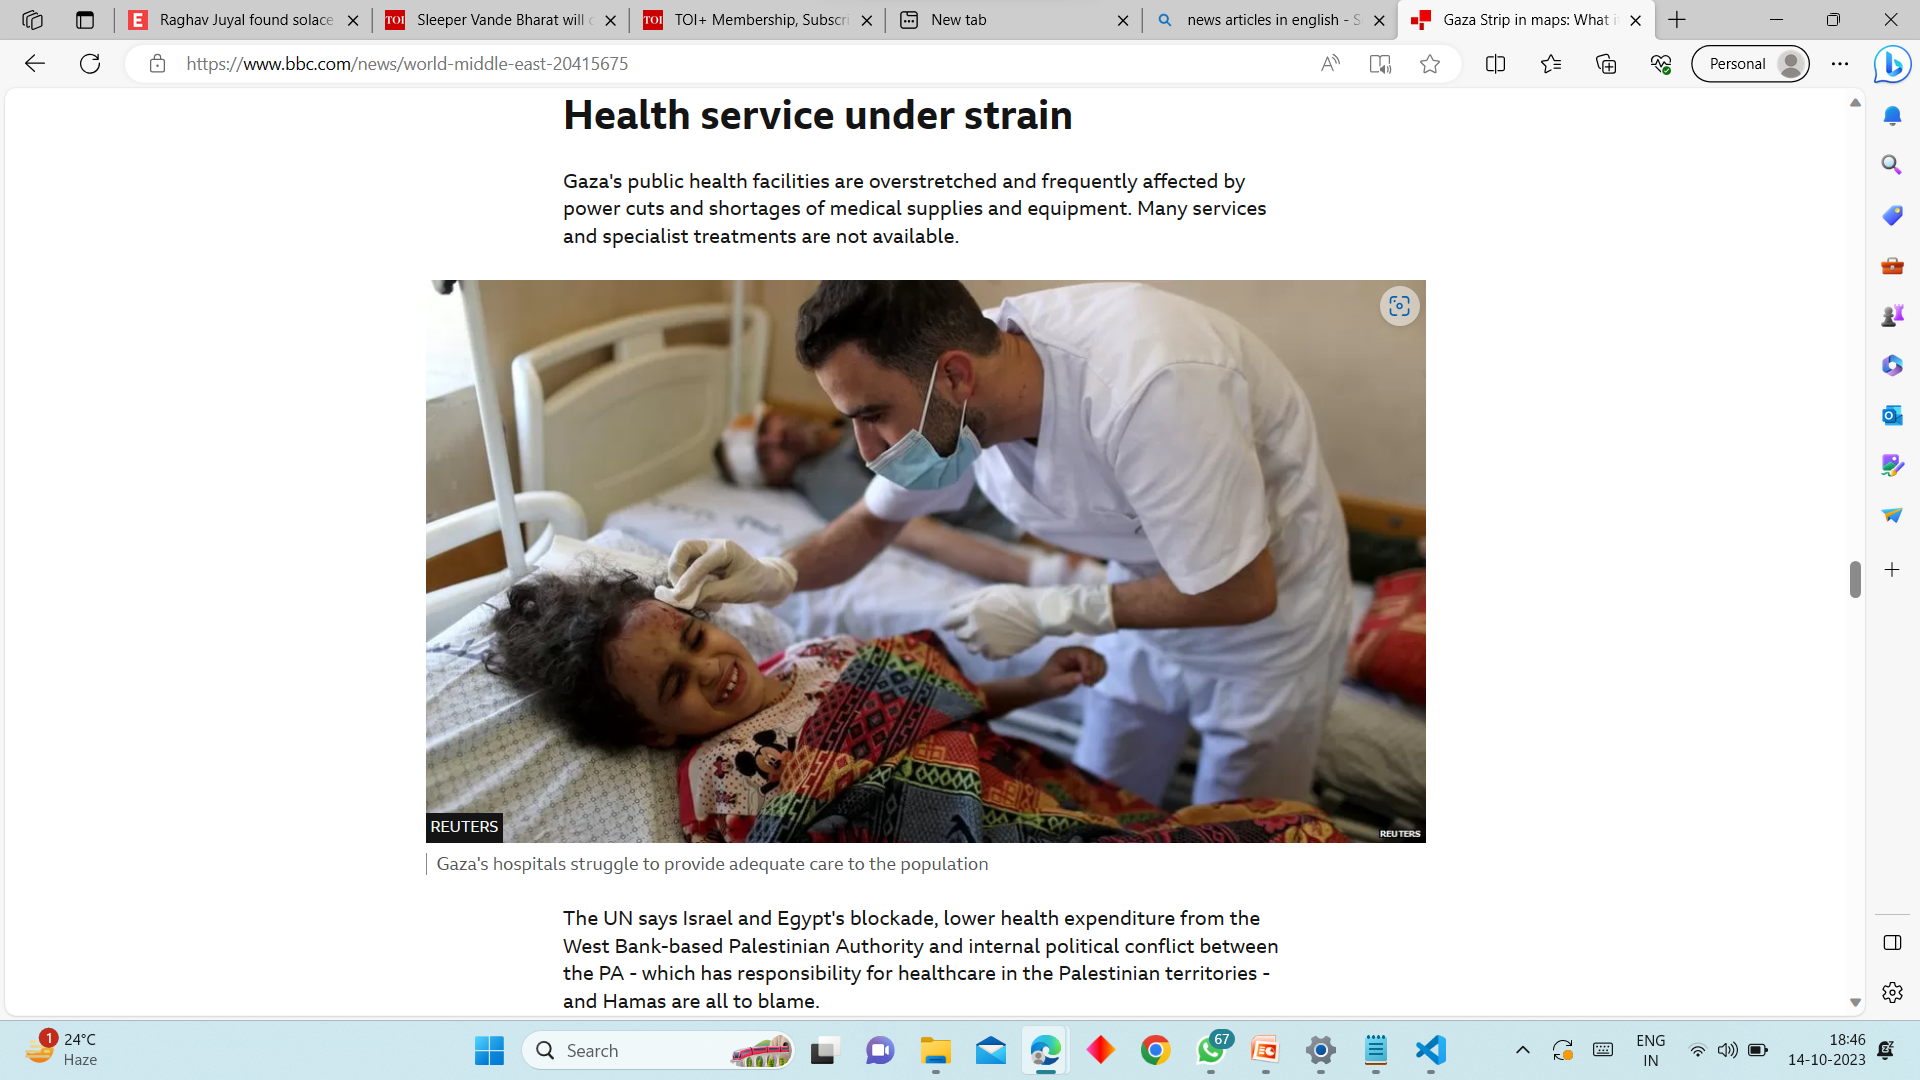Image: (389, 270, 1444, 836)
Paragraph: (553, 899, 1295, 1015), (562, 165, 1276, 257), (559, 83, 1089, 145), (430, 856, 1006, 870)
